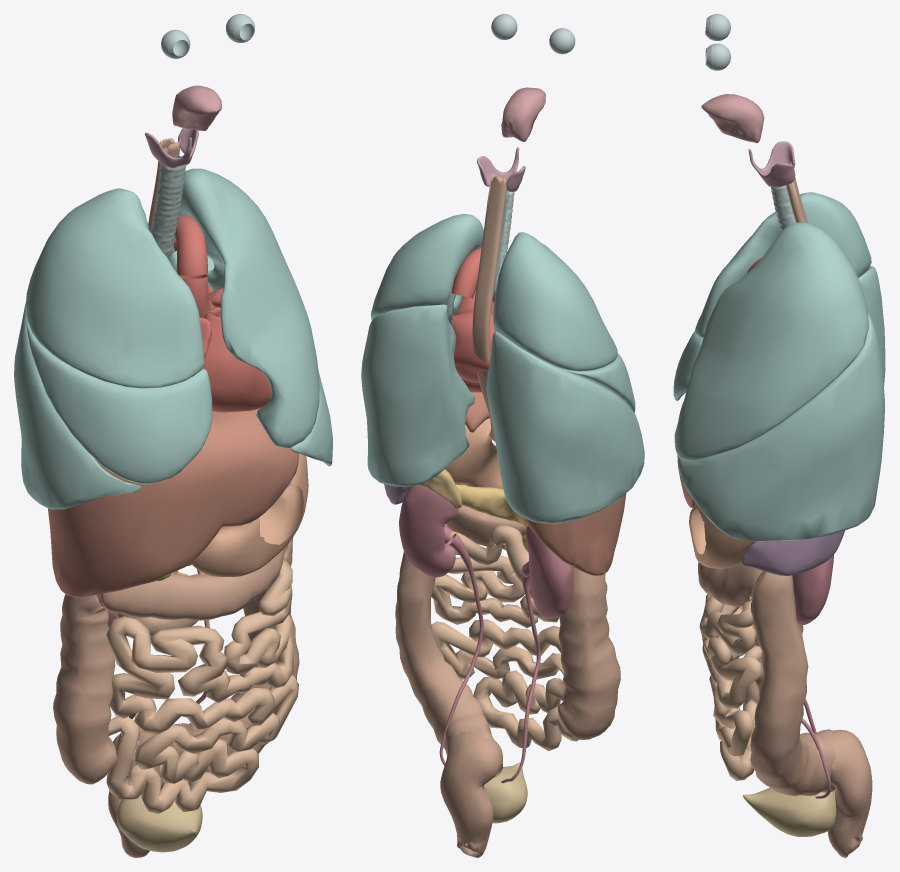
Rendered from organs.glb.
3 renders of one model, left to right at view 1: azimuth 30°, elevation 25°; view 2: azimuth 150°, elevation 25°; view 3: azimuth 270°, elevation 25°, orthographic. The views are drawn at different scales.
Parts seen in each view (by area): view 1: lung-right, intestine, liver, lung-left, colon, heart, stomach, bladder, trachea, tongue, thyroid, eye-right (+1 smaller); view 2: lung-right, lung-left, colon, intestine, kidney-left, liver, kidney-right, oesophagus, heart, stomach, bladder, tongue (+6 smaller); view 3: lung-left, colon, intestine, lung-right, bladder, spleen, stomach, kidney-left, tongue, thyroid, trachea, eye-left (+2 smaller).
Boxes of the visible parts, <box> form: lung-right: <box>14,188,212,509</box>; intestine: <box>106,560,298,813</box>; liver: <box>48,408,298,597</box>; lung-left: <box>168,168,332,466</box>; colon: <box>53,537,299,857</box>; heart: <box>173,215,271,412</box>; stomach: <box>191,453,308,576</box>; bladder: <box>116,795,202,852</box>; trachea: <box>151,155,186,257</box>; tongue: <box>172,85,221,130</box>; thyroid: <box>145,128,199,168</box>; eye-right: <box>161,29,190,58</box>; lung-right: <box>486,232,644,523</box>; lung-left: <box>361,214,483,486</box>; colon: <box>395,505,620,857</box>; intestine: <box>431,525,578,751</box>; kidney-left: <box>399,485,483,765</box>; liver: <box>465,392,626,575</box>; kidney-right: <box>501,526,573,783</box>; oesophagus: <box>472,174,506,442</box>; heart: <box>451,247,495,392</box>; stomach: <box>445,418,502,488</box>; bladder: <box>484,762,527,823</box>; tongue: <box>501,87,545,141</box>; lung-left: <box>674,222,884,541</box>; colon: <box>698,562,872,857</box>; intestine: <box>699,594,761,780</box>; lung-right: <box>673,192,885,400</box>; bladder: <box>743,787,836,836</box>; spleen: <box>741,530,844,575</box>; stomach: <box>689,503,755,568</box>; kidney-left: <box>792,555,833,798</box>; tongue: <box>701,94,764,143</box>; thyroid: <box>748,141,795,187</box>; trachea: <box>771,185,795,230</box>; eye-left: <box>705,43,730,70</box>.
Size of the model in its own units: 0.2605 by 0.7964 by 0.1851.
